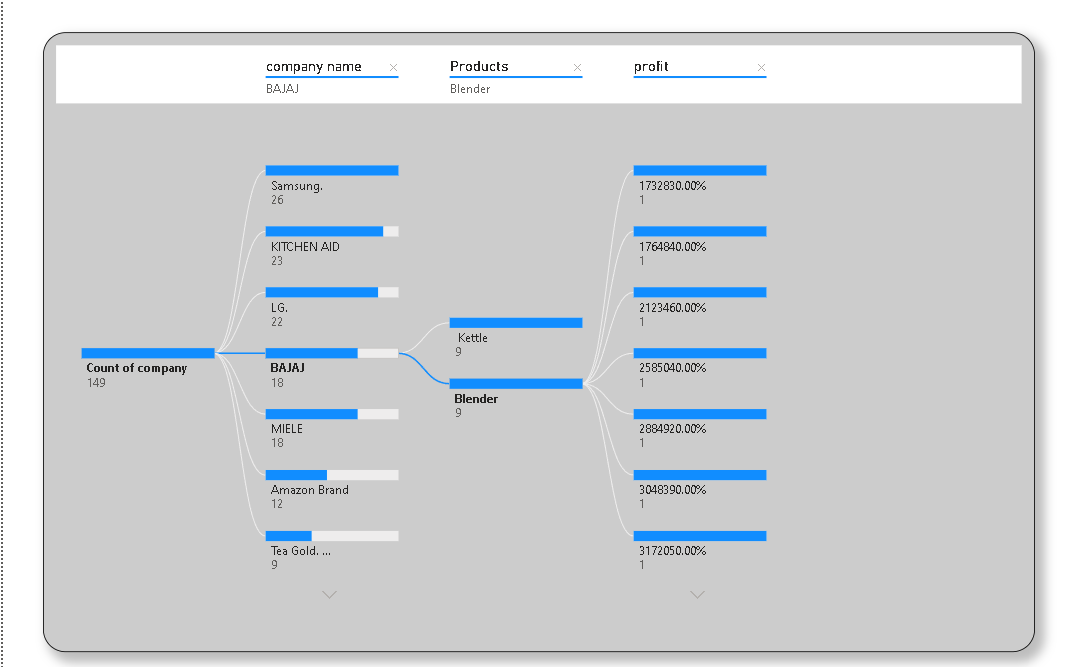

What the dashboard file says about the page in this screenshot:
{"tool":"powerbi","page":{"name":"decompisition tree","canvas":[1280,720],"ordinal":2},"visuals":[{"type":"decompositionTreeVisual","fields":{"Analyze":["CountNonNull(product and company.company name)"],"ExplainBy":["product and company.company name","product and company.Products","kitchen data.profit"]},"box":[38.9,89.3,970.6,606.2],"z":0}]}

Visuals, with their boxes on the page's 1280x720 design canvas (x1, y1, x2, y2). These are canvas units, not pixel positions in the 1074x667 screenshot, which may show the page scaled, cropped or inside an application window:
decompositionTreeVisual - CountNonNull(product and company.company name) x product and company.company name: detection(39, 89, 1010, 696)
